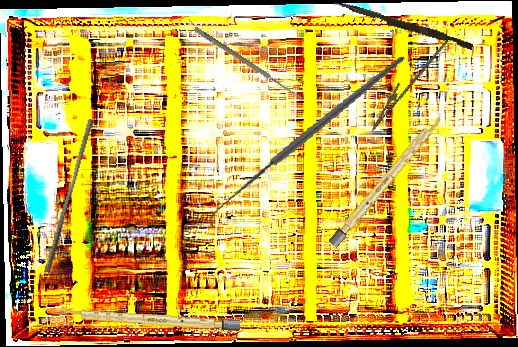Hook Surgical: (188, 56, 427, 228)
Needle Holder: (363, 26, 450, 140)
Pusher: (44, 117, 95, 275), (331, 0, 475, 50)
Scalpel Handle: (328, 110, 446, 249), (58, 307, 241, 332)
Surgical Spoon: (192, 26, 305, 102)
